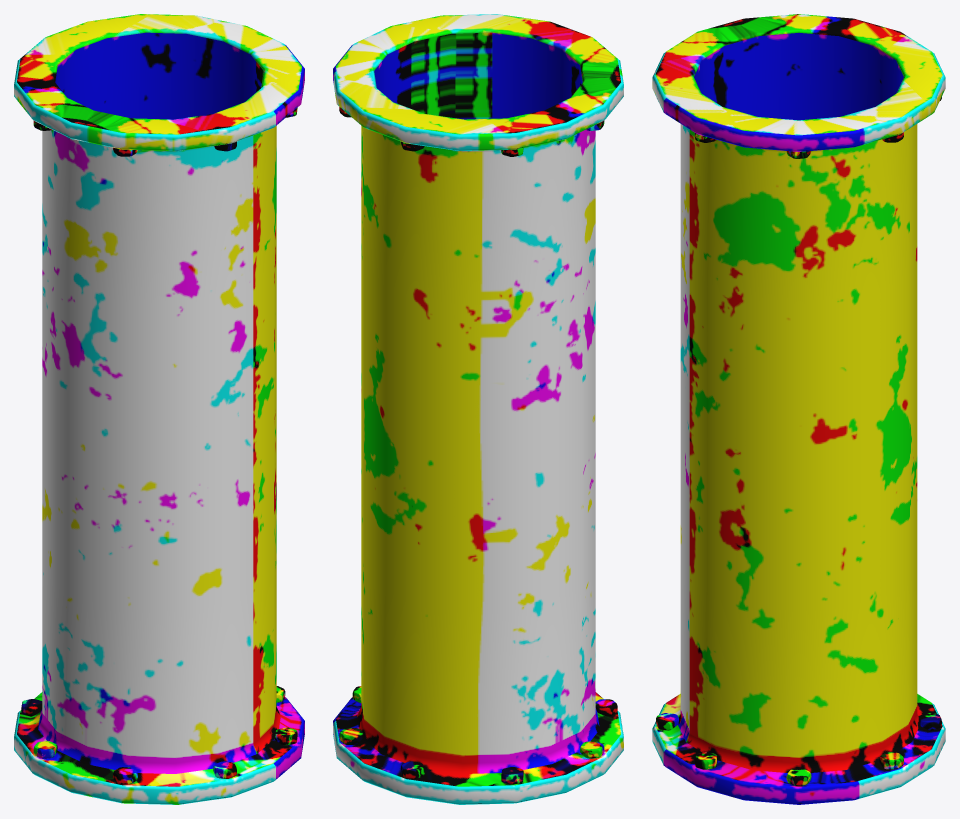
Rendered from sm_PipeStraight_01_01.fbx.
3 views of the same model, side by side, from view 1: azimuth 30°, elevation 25°; view 2: azimuth 150°, elevation 25°; view 3: azimuth 270°, elevation 25° (orthographic).
Parts seen in each view (by area): view 1: sm_PipeStraight_01_01_LOD0; view 2: sm_PipeStraight_01_01_LOD0; view 3: sm_PipeStraight_01_01_LOD0.
Boxes of the visible parts, x1,y1,x2,y2 form: sm_PipeStraight_01_01_LOD0: (14, 14, 304, 804); sm_PipeStraight_01_01_LOD0: (333, 14, 623, 804); sm_PipeStraight_01_01_LOD0: (652, 14, 945, 804).
Bounding box in the file's own units: 29.76 × 29.76 × 75.01.
